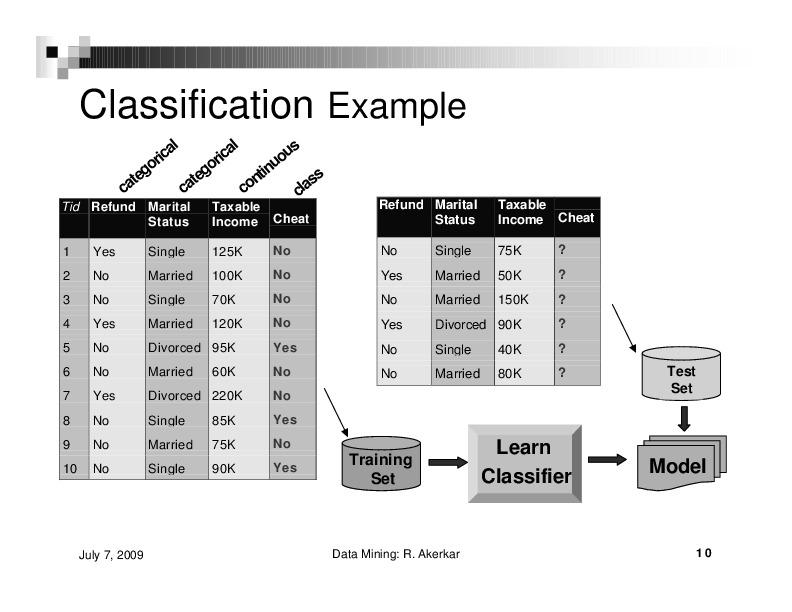subtitle: (58, 530, 520, 570)
title: (75, 77, 476, 133)
